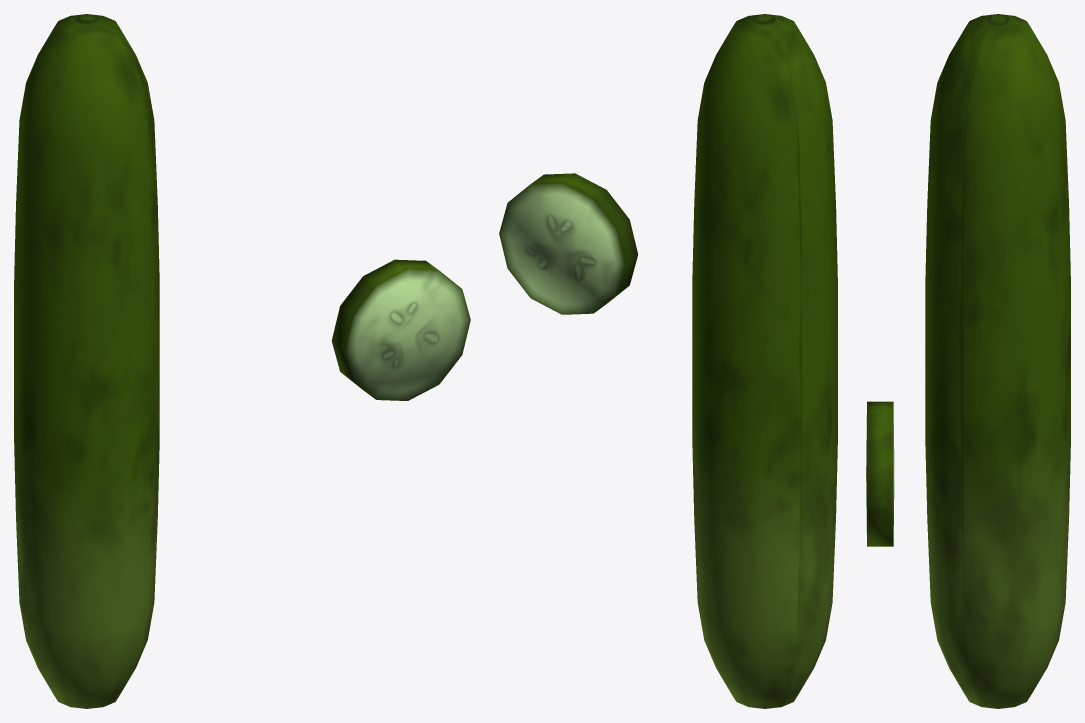
Rendered from _ucumber.fbx.
The picture shows the model from 3 angles, left to right: view 1: azimuth 30°, elevation 25°; view 2: azimuth 150°, elevation 25°; view 3: azimuth 270°, elevation 25°; orthographic projection.
Visible parts, largest first — view 1: CucumberA, CucumberB; view 2: CucumberA, CucumberB; view 3: CucumberA, CucumberB.
Boxes of the visible parts, x1,y1,x2,y2 form: CucumberA: (14,14,159,708); CucumberB: (331,259,470,400); CucumberA: (692,14,837,708); CucumberB: (499,173,638,314); CucumberA: (925,14,1070,708); CucumberB: (866,401,894,546).
Size of the model in its own units: 147 by 255 by 68.46.
Materials: 1 (1 with a texture image).
